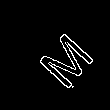M_NW: (23, 17, 91, 85)
